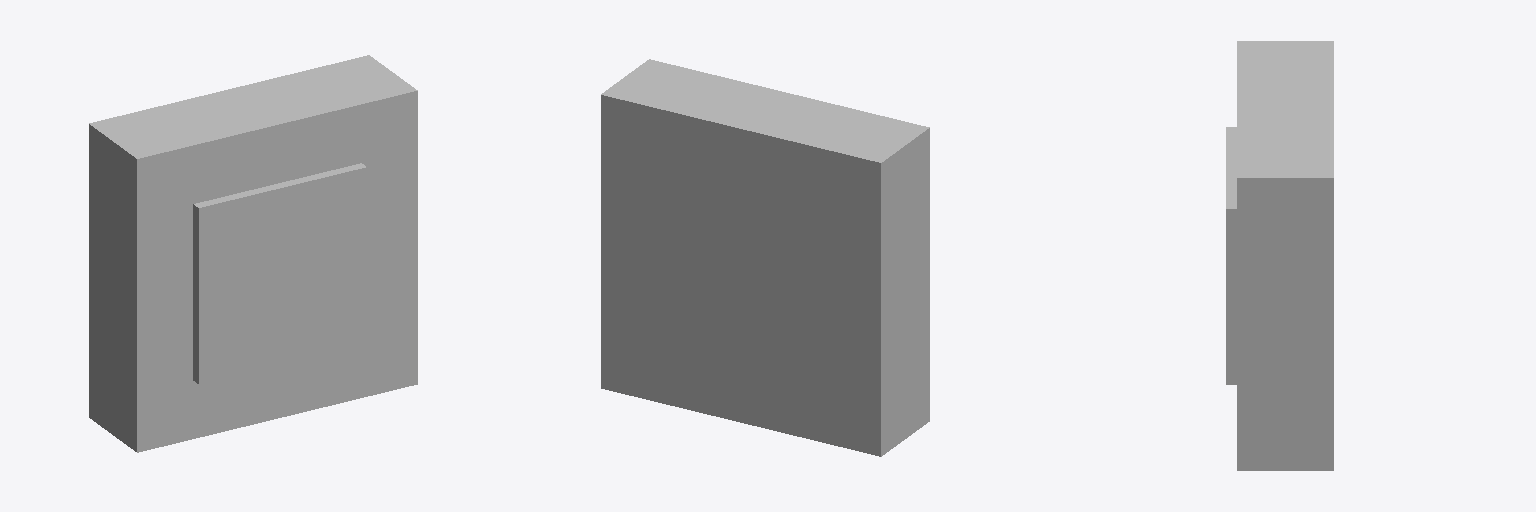
The model's file is marker.obj.
The picture shows the model from 3 angles: view 1: azimuth 30°, elevation 25°; view 2: azimuth 150°, elevation 25°; view 3: azimuth 270°, elevation 25°; orthographic projection.
Visible parts, largest first — view 1: Cube; view 2: Cube; view 3: Cube.
Part boxes in pixels (x1,y1,x2,y2): Cube: (89, 55, 417, 452); Cube: (601, 59, 929, 456); Cube: (1226, 41, 1333, 470).
Bounding box in the file's own units: 0.2 × 0.2 × 0.0668.